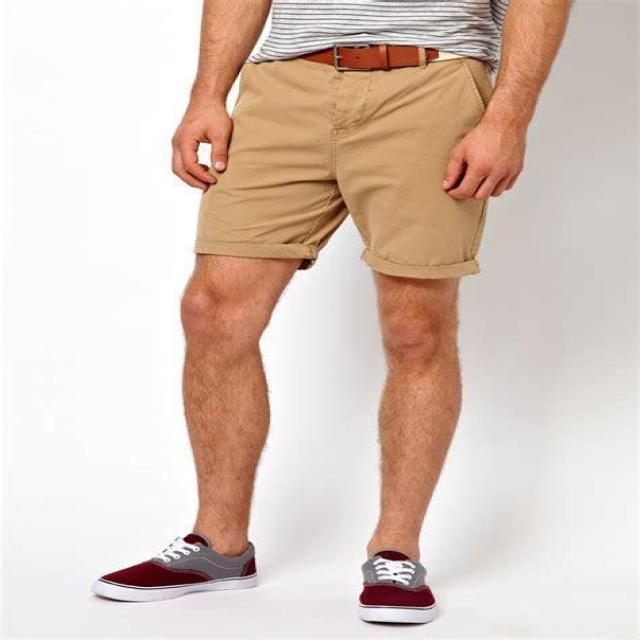short: (196, 43, 497, 280)
